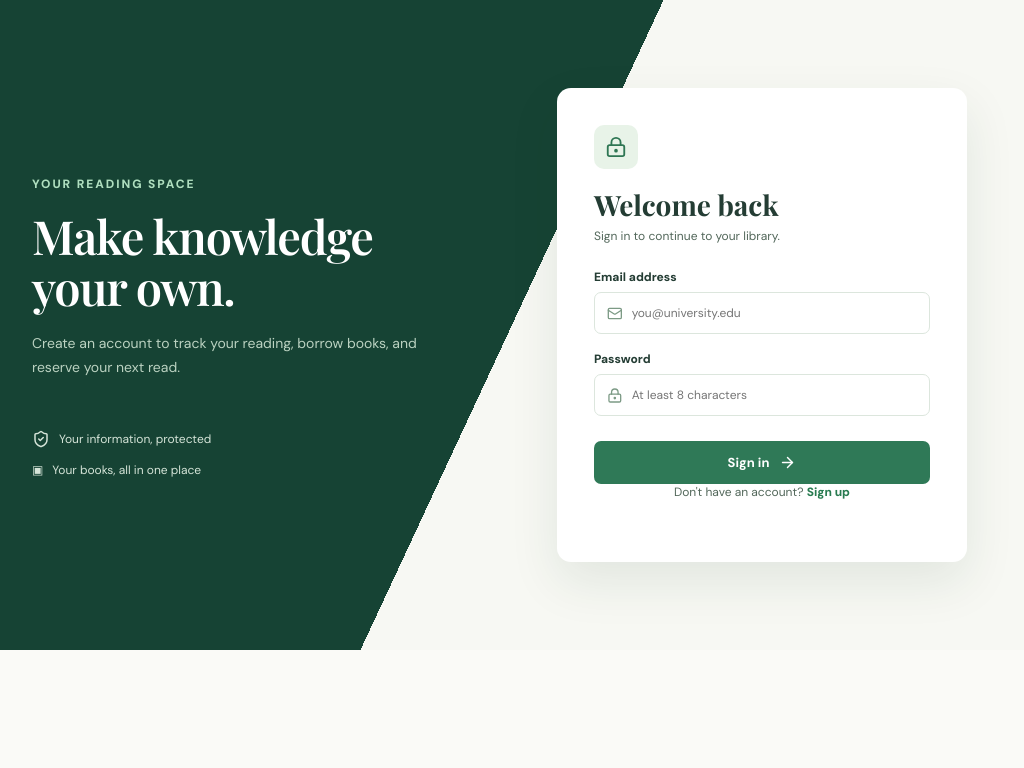
Test case: registration without a session requires email confirmation
Click the button "Sign up". click: coordinates (828, 492)
box: [807,484,850,500]
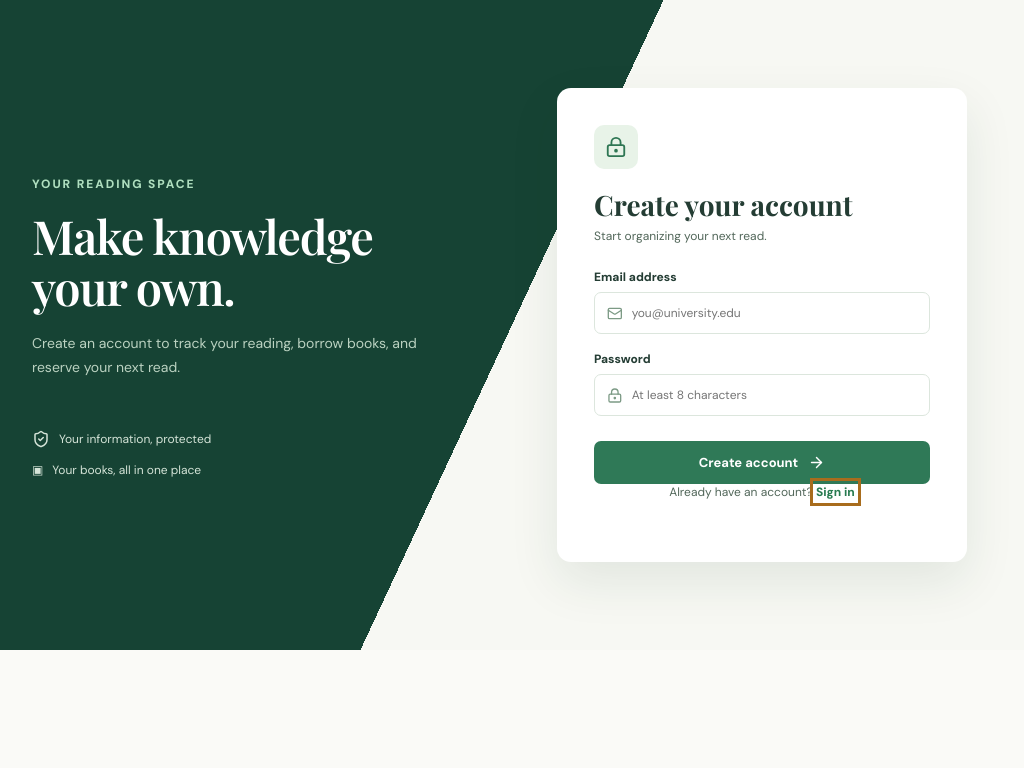
Type "ana@campus.edu" into the field labelled "Email address". click: coordinates (774, 313)
box: [632,293,917,333]
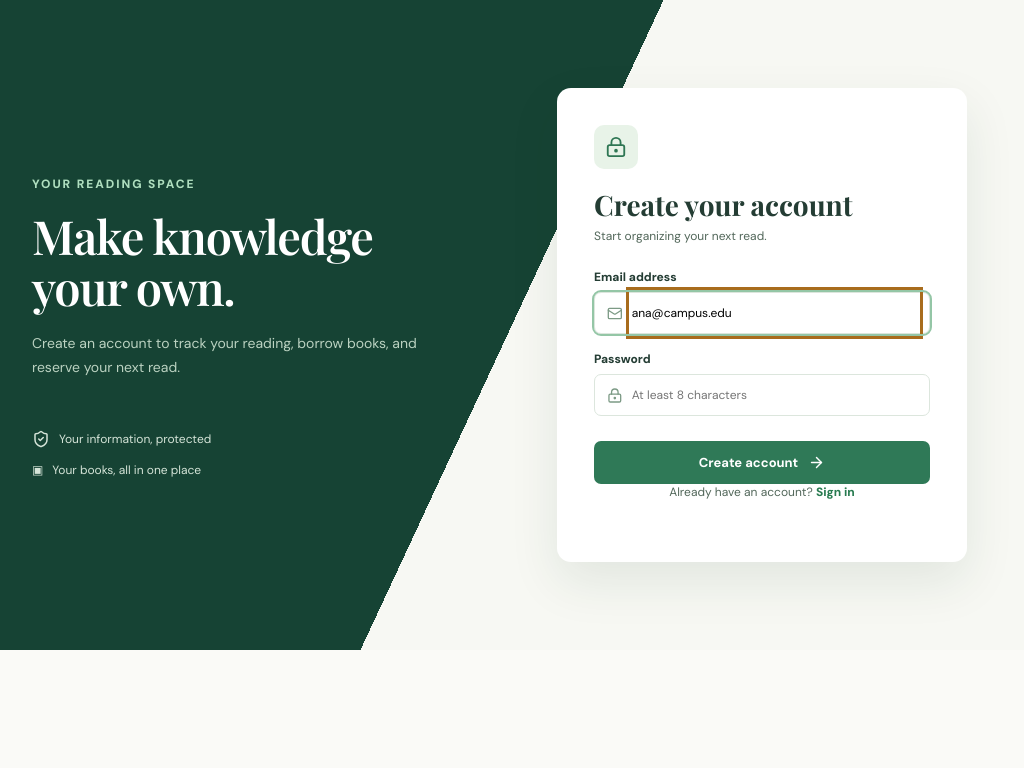
Type "password123" into the password field labelled "Password". click: coordinates (774, 395)
box: [632,375,917,415]
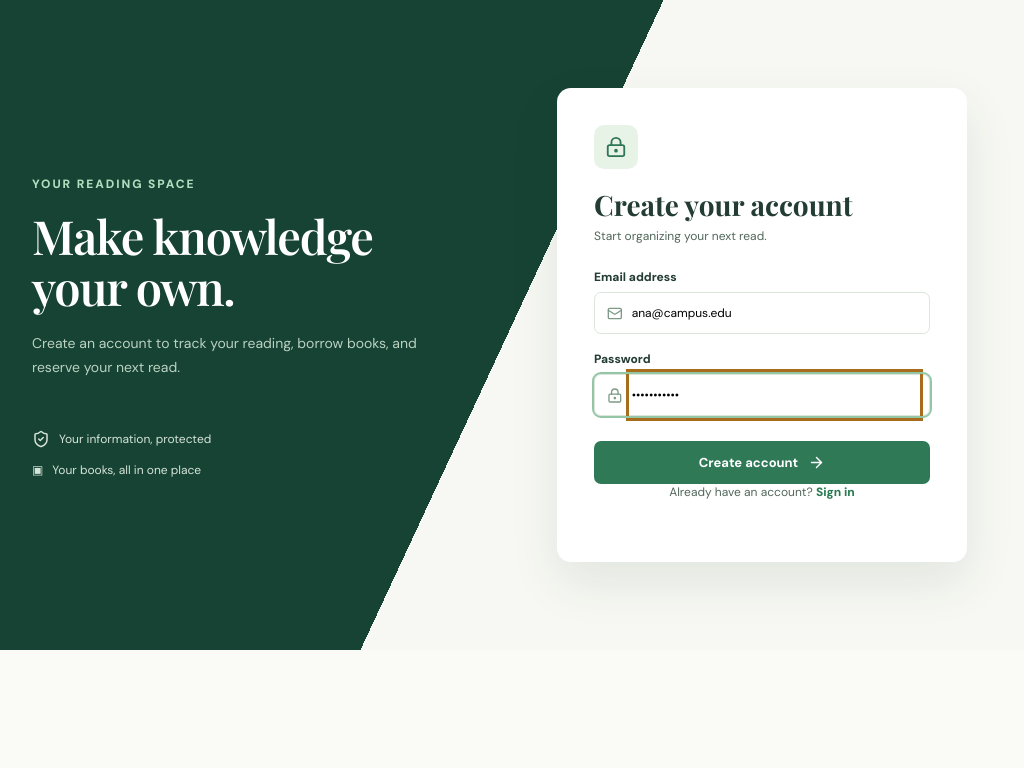
Click the button "Create account". click: coordinates (762, 462)
box: [594,441,930,484]
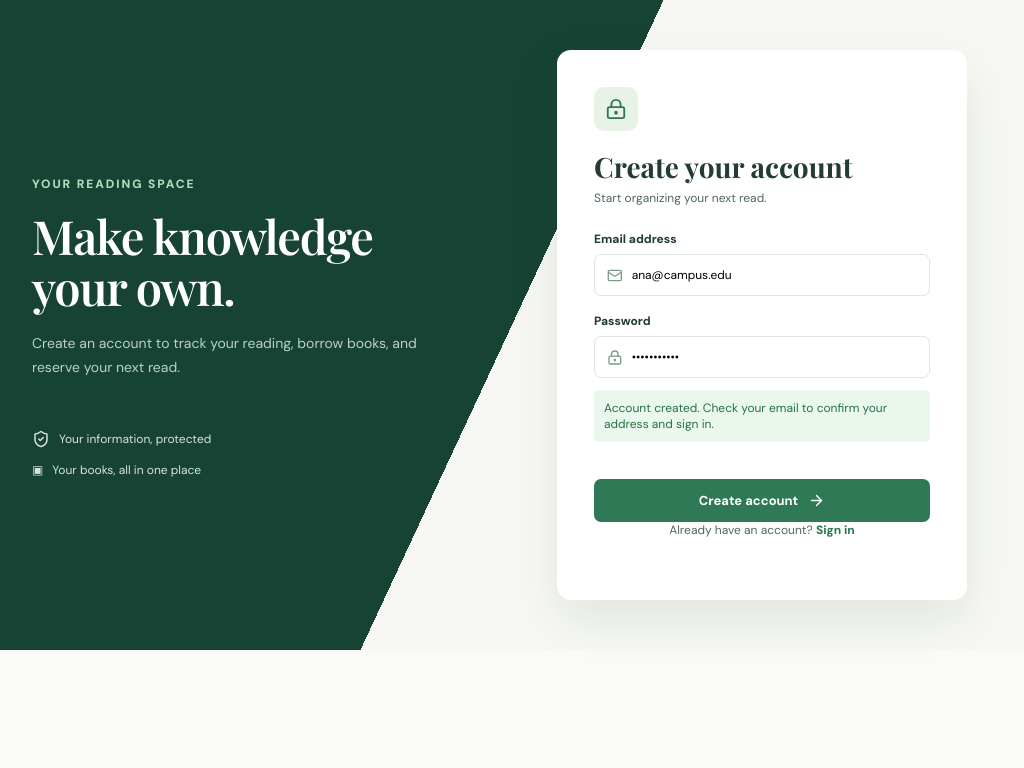
Now the message shows "Check your email", box [604,400,887,432]
